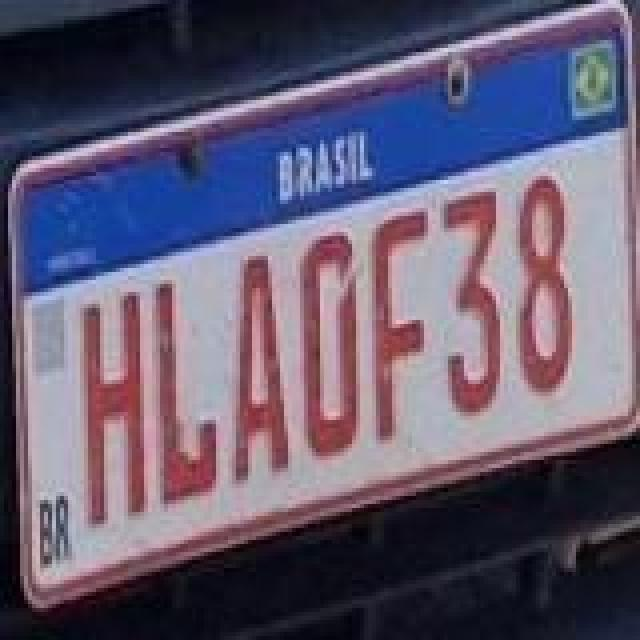3: (440, 188, 504, 420)
8: (514, 170, 574, 398)
A: (236, 252, 292, 484)
D: (296, 230, 360, 458)
F: (370, 206, 430, 450)
H: (80, 288, 144, 528)
L: (152, 278, 216, 506)
